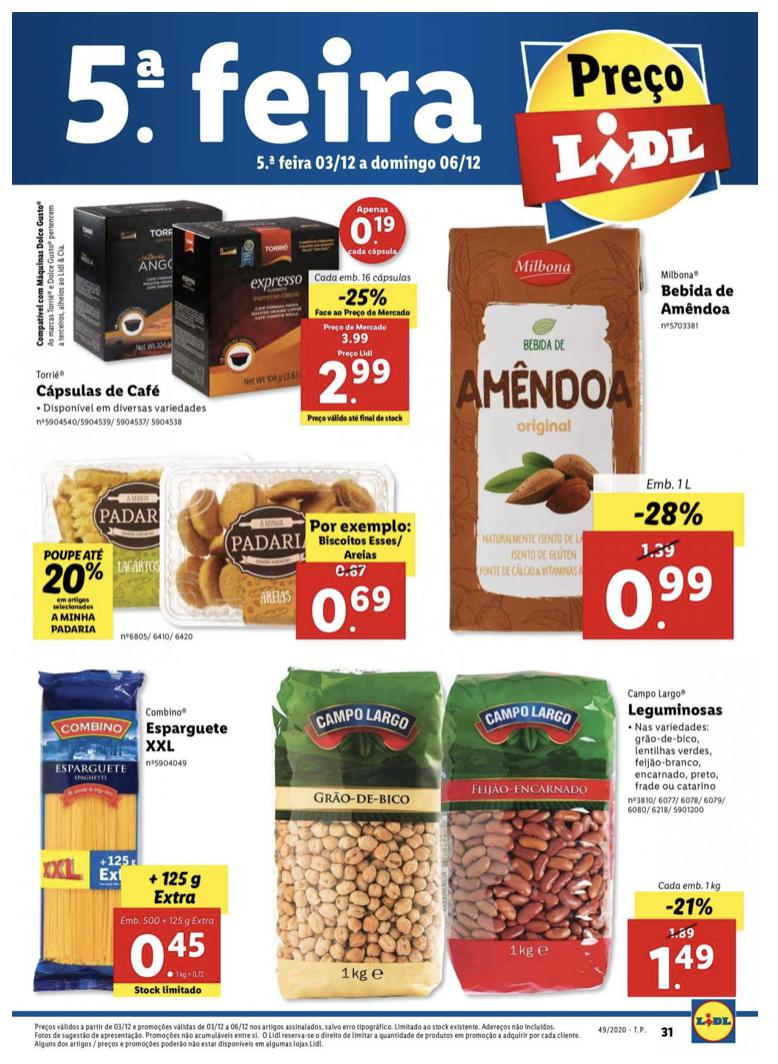name: (136, 712, 233, 757), (654, 277, 744, 320), (36, 381, 164, 404), (620, 696, 729, 719)
price: (598, 563, 716, 634), (311, 578, 395, 636), (312, 353, 399, 406), (128, 924, 211, 979), (647, 934, 716, 995)
product: (260, 658, 754, 1004), (433, 213, 757, 650), (16, 190, 419, 428), (24, 452, 419, 649), (26, 659, 237, 1004)
promotion: (633, 494, 707, 531), (41, 561, 111, 595), (336, 286, 389, 310), (661, 896, 714, 919)
